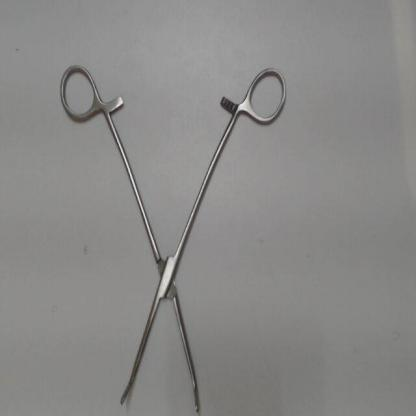Lahey Forceps: (51, 62, 293, 415)
